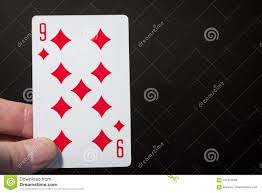nine of diamonds: (31, 14, 131, 167)
